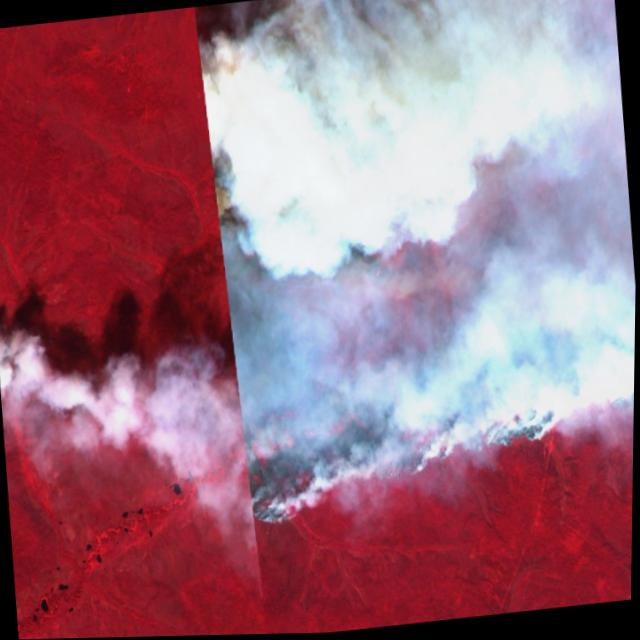fire: (204, 117, 639, 534)
